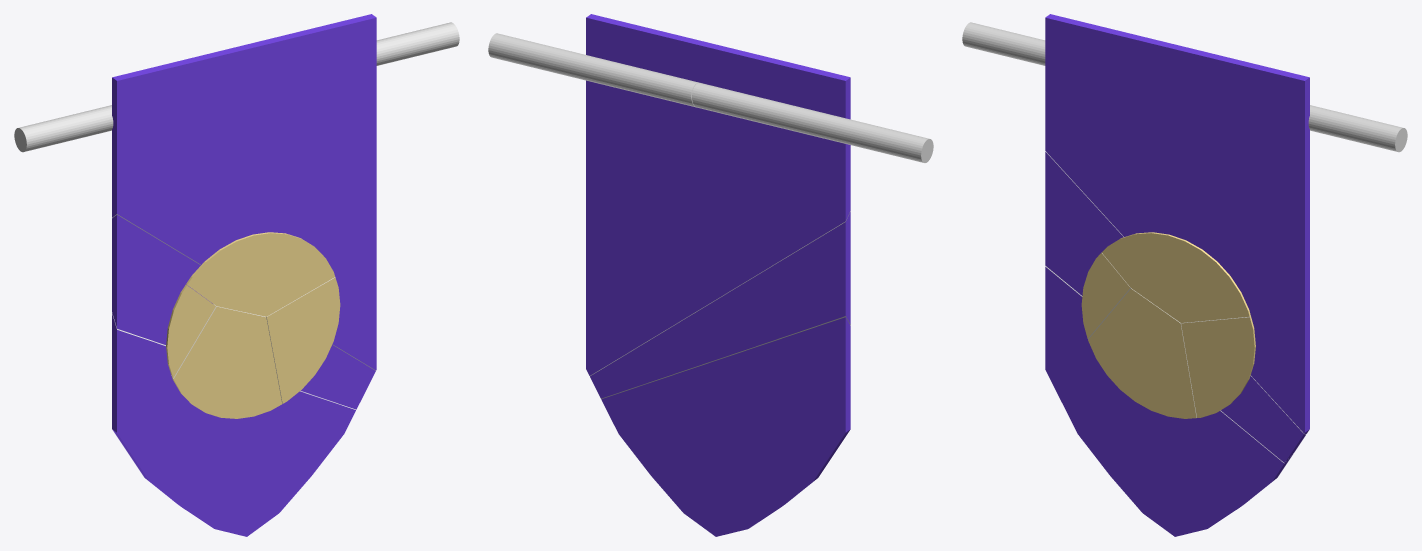
Rendered from Banner_Broken.fbx.
3 views of the same model, side by side, from view 1: azimuth 30°, elevation 25°; view 2: azimuth 150°, elevation 25°; view 3: azimuth 330°, elevation 25° (orthographic).
Parts seen in each view (by area): view 1: Banner.002_cell.001, Banner.002_cell, Banner.002_cell.002, Banner.001_cell.003, Banner.001_cell, Banner.001_cell.002, Banner_cell.001, Banner.001_cell.001, Banner_cell; view 2: Banner.002_cell.001, Banner.002_cell, Banner.002_cell.002, Banner_cell.001, Banner_cell; view 3: Banner.002_cell.001, Banner.002_cell, Banner.002_cell.002, Banner.001_cell.003, Banner.001_cell, Banner.001_cell.002, Banner_cell, Banner.001_cell.001, Banner_cell.001.
Part boxes in pixels (<box>): Banner.002_cell.001: <box>112,14,376,370</box>; Banner.002_cell: <box>112,313,355,536</box>; Banner.002_cell.002: <box>112,215,375,409</box>; Banner.001_cell.003: <box>171,304,282,418</box>; Banner.001_cell: <box>186,232,335,316</box>; Banner.001_cell.002: <box>266,277,340,403</box>; Banner_cell.001: <box>14,105,113,152</box>; Banner.001_cell.001: <box>166,284,215,377</box>; Banner_cell: <box>376,22,459,65</box>; Banner.002_cell.001: <box>586,14,850,375</box>; Banner.002_cell: <box>601,317,850,536</box>; Banner.002_cell.002: <box>590,211,850,399</box>; Banner_cell.001: <box>692,82,933,162</box>; Banner_cell: <box>488,33,698,107</box>; Banner.002_cell.001: <box>1045,14,1309,433</box>; Banner.002_cell: <box>1045,266,1294,536</box>; Banner.002_cell.002: <box>1045,151,1305,462</box>; Banner.001_cell.003: <box>1088,288,1196,418</box>; Banner.001_cell: <box>1102,232,1250,322</box>; Banner.001_cell.002: <box>1181,315,1255,417</box>; Banner_cell: <box>1308,105,1407,152</box>; Banner.001_cell.001: <box>1081,252,1130,338</box>; Banner_cell.001: <box>962,22,1045,65</box>.
Size of the model in its own units: 2 by 2.15 by 0.1848.
